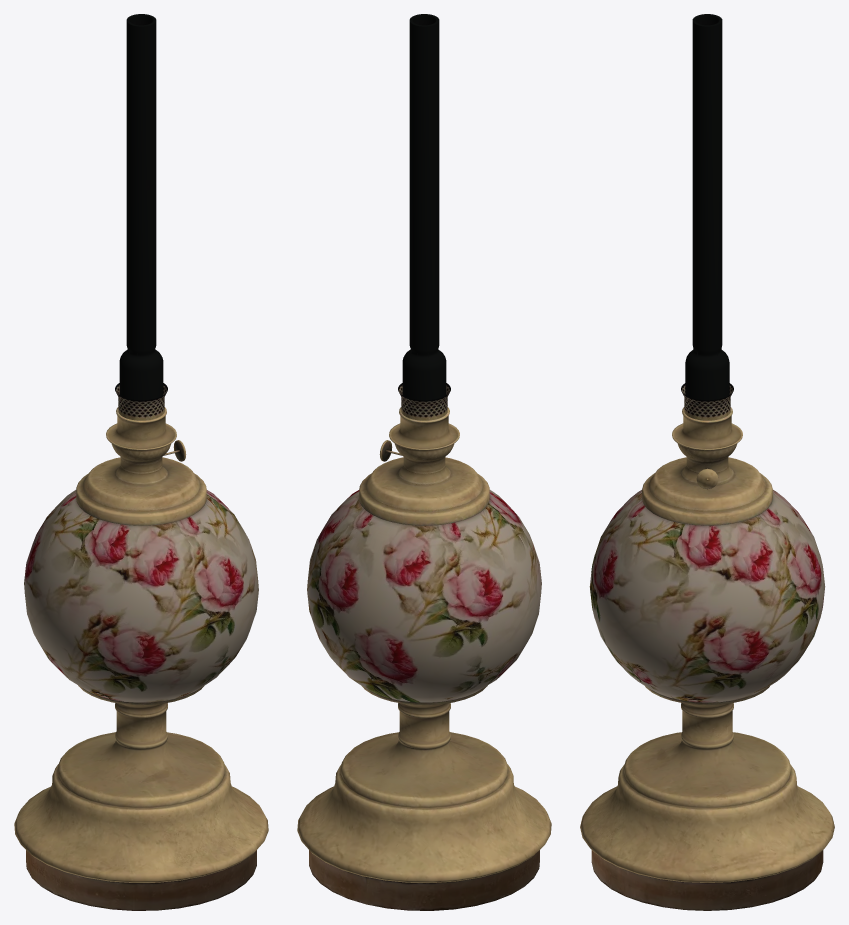
Rendered from vintage_oil_lamp.glb.
The picture shows the model from 3 angles, left to right: view 1: azimuth 30°, elevation 25°; view 2: azimuth 150°, elevation 25°; view 3: azimuth 270°, elevation 25°; orthographic projection.
Parts seen in each view (by area): view 1: vintage_oil_lamp, vintage_oil_lamp_glass; view 2: vintage_oil_lamp, vintage_oil_lamp_glass; view 3: vintage_oil_lamp, vintage_oil_lamp_glass.
Boxes of the visible parts, left/top/right/bottom form: vintage_oil_lamp: left=14, top=407, right=268, bottom=910; vintage_oil_lamp_glass: left=115, top=14, right=167, bottom=420; vintage_oil_lamp: left=297, top=407, right=551, bottom=910; vintage_oil_lamp_glass: left=398, top=14, right=450, bottom=420; vintage_oil_lamp: left=580, top=407, right=834, bottom=910; vintage_oil_lamp_glass: left=681, top=14, right=733, bottom=420.
Bounding box in the file's own units: 0.22 × 0.8016 × 0.22.
3 materials, 3 textured.
